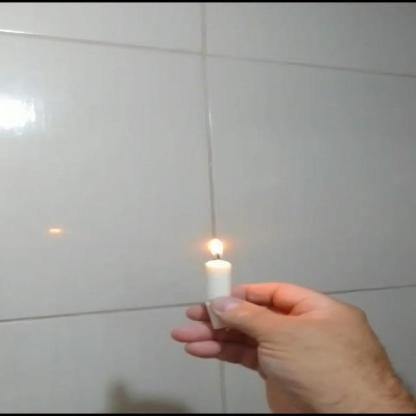fire: (205, 236, 229, 258)
